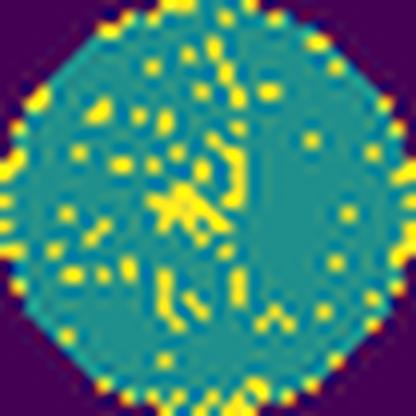Center: (144, 168, 245, 250)
